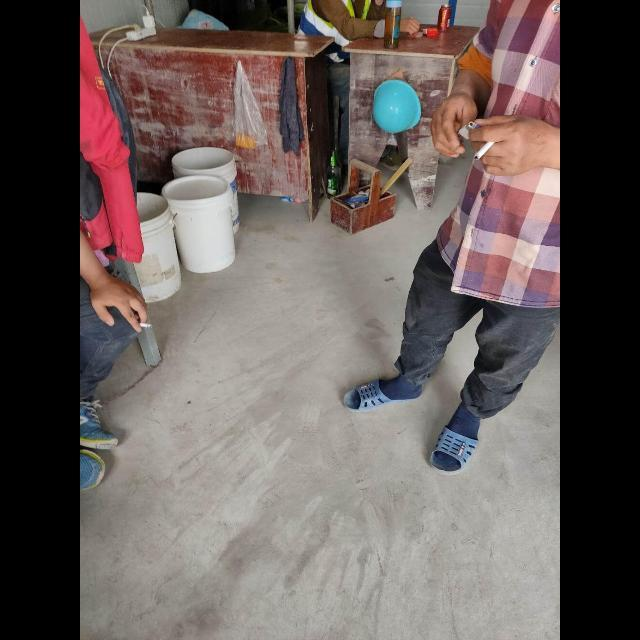rokok: (91, 287, 162, 341), (470, 137, 502, 163)
